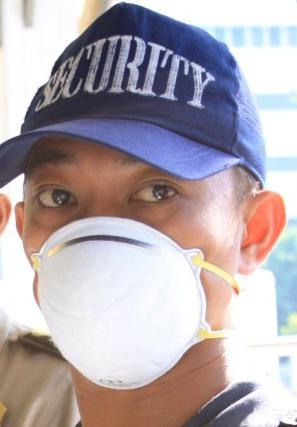OK: (21, 130, 227, 391)
